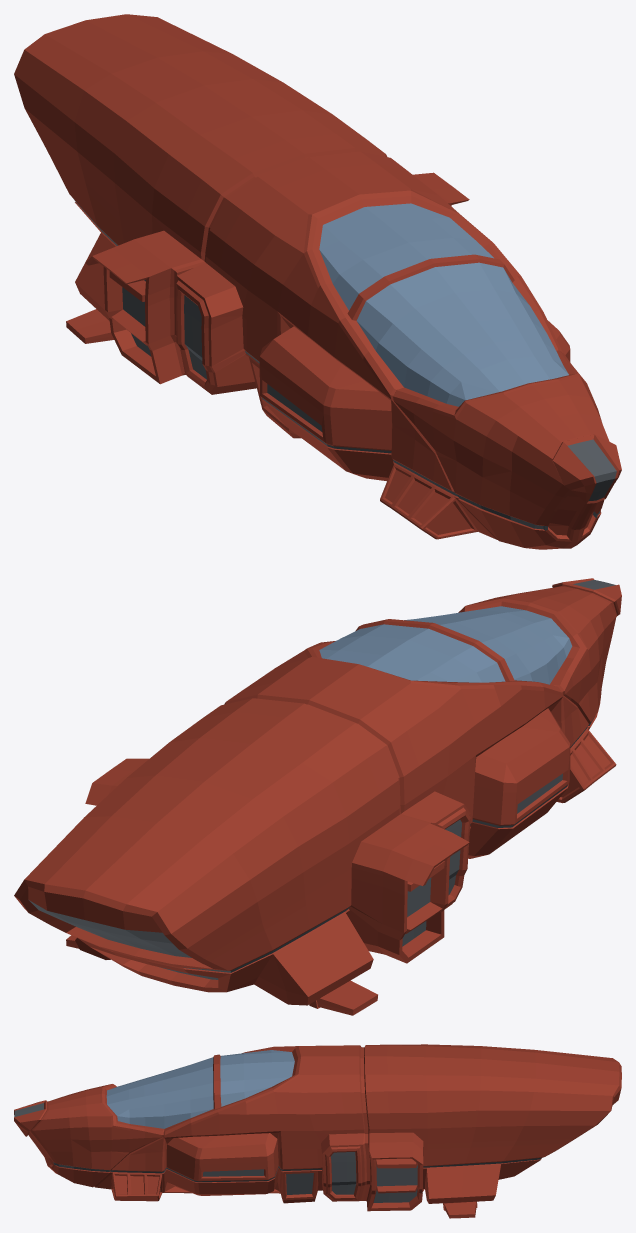
The model's file is Fighter_07_Body_Red.fbx.
The picture shows the model from 3 angles, top to bottom: view 1: azimuth 30°, elevation 25°; view 2: azimuth 150°, elevation 25°; view 3: azimuth 270°, elevation 25°; orthographic projection. The views are drawn at different scales.
Visible parts, largest first — view 1: Fighter_07_Body_Red; view 2: Fighter_07_Body_Red; view 3: Fighter_07_Body_Red.
Part boxes in pixels (x1=…): Fighter_07_Body_Red: x1=14, y1=14, x2=621, y2=549; Fighter_07_Body_Red: x1=14, y1=578, x2=621, y2=1015; Fighter_07_Body_Red: x1=14, y1=1044, x2=621, y2=1218.
Bounding box in the file's own units: 808 × 505 × 2135.
3 materials, 3 textured.
